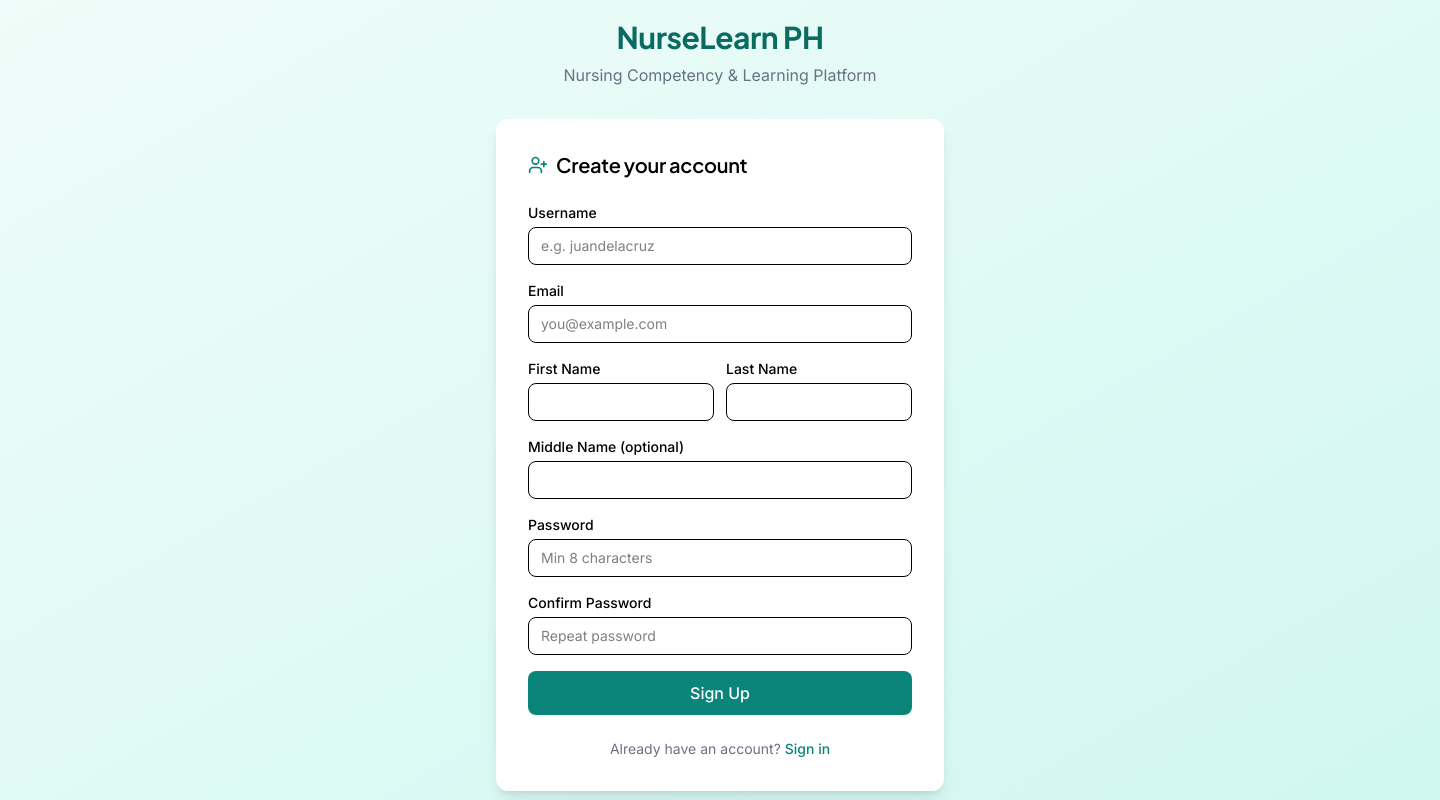
Scenario: SignupPage › shows the server error when registration fails
Expected: the heading "Create your account" is shown, top-left (556, 151), bottom-right (747, 179)
Type "dupe01" into the field with test id "signup-username" at (720, 246), box top-left (528, 227), bottom-right (912, 265)
Type "dupe01@example.com" into the field with test id "signup-email" at (720, 324), box top-left (528, 305), bottom-right (912, 343)
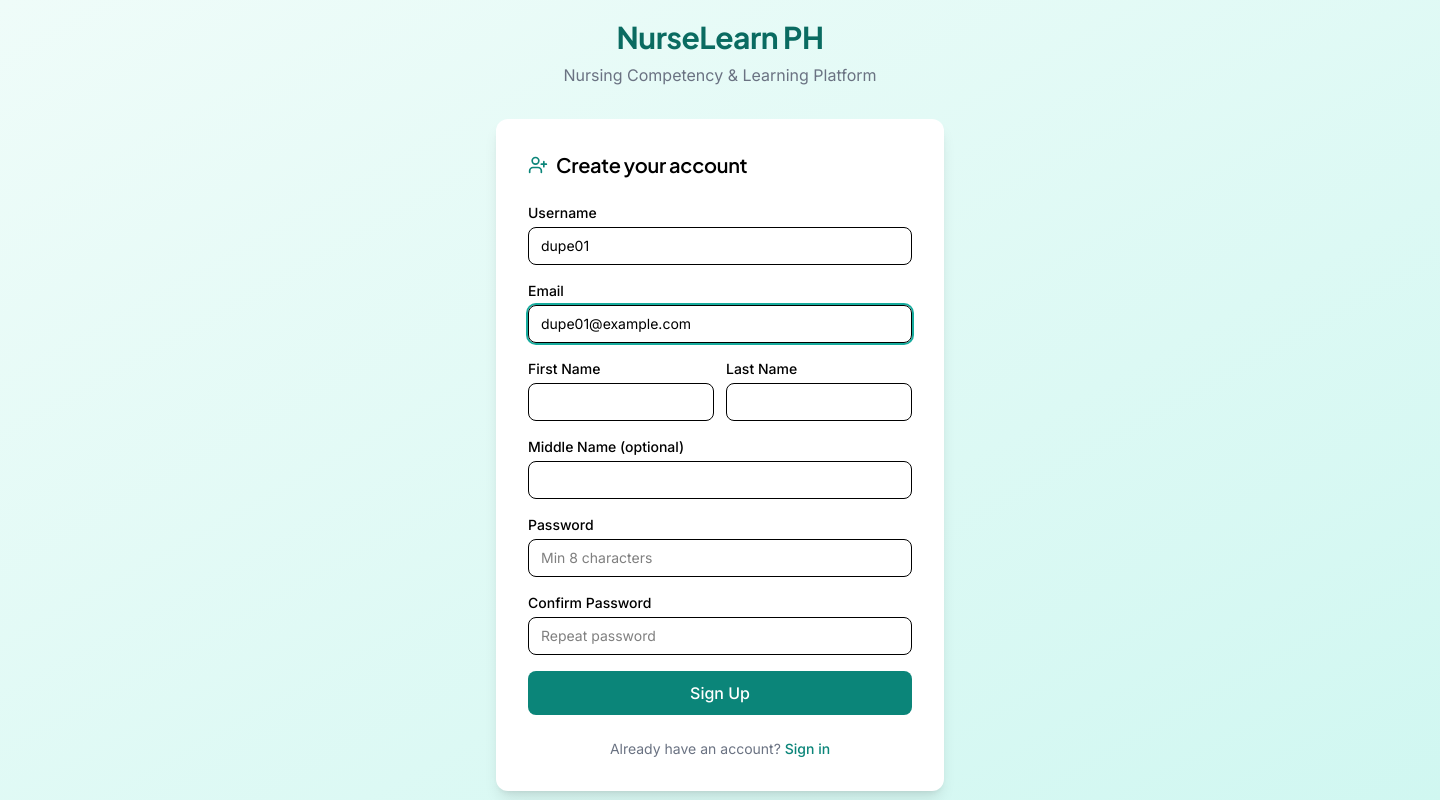
Type "Dupe" into the field with test id "signup-firstName" at (621, 402), box top-left (528, 383), bottom-right (714, 421)
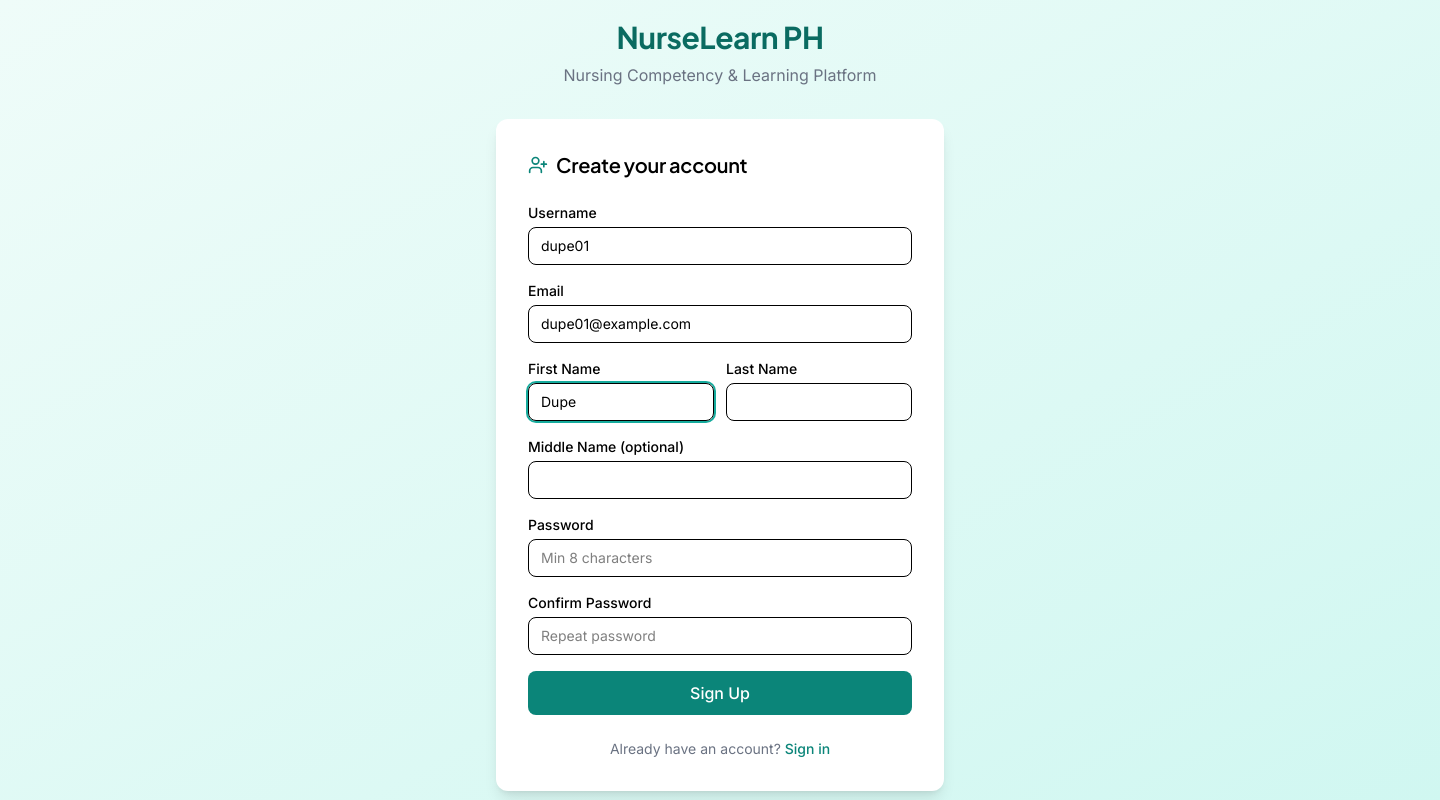
Type "User" into the field with test id "signup-lastName" at (819, 402), box top-left (726, 383), bottom-right (912, 421)
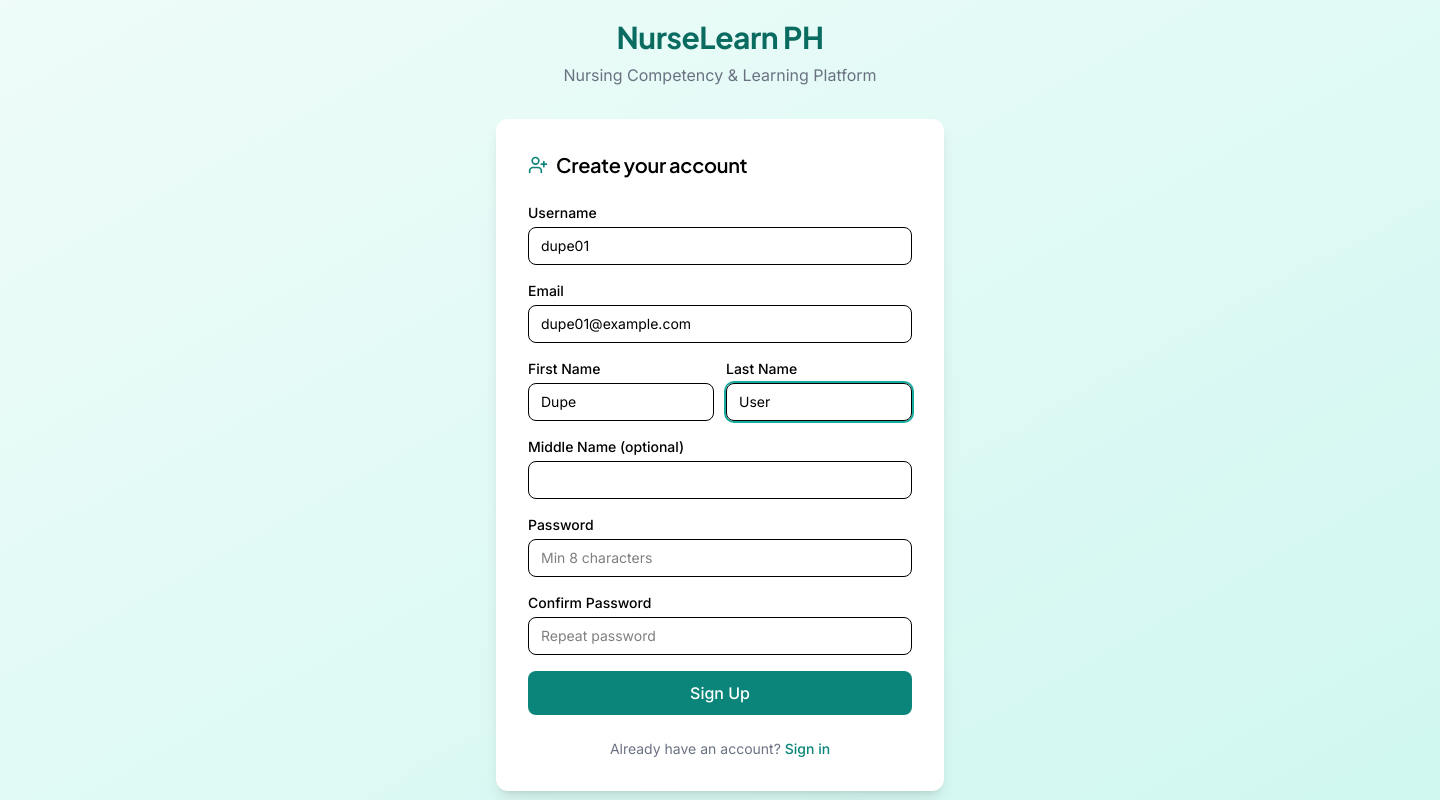
Type "secret123" into the password field with test id "signup-password" at (720, 558), box top-left (528, 539), bottom-right (912, 577)
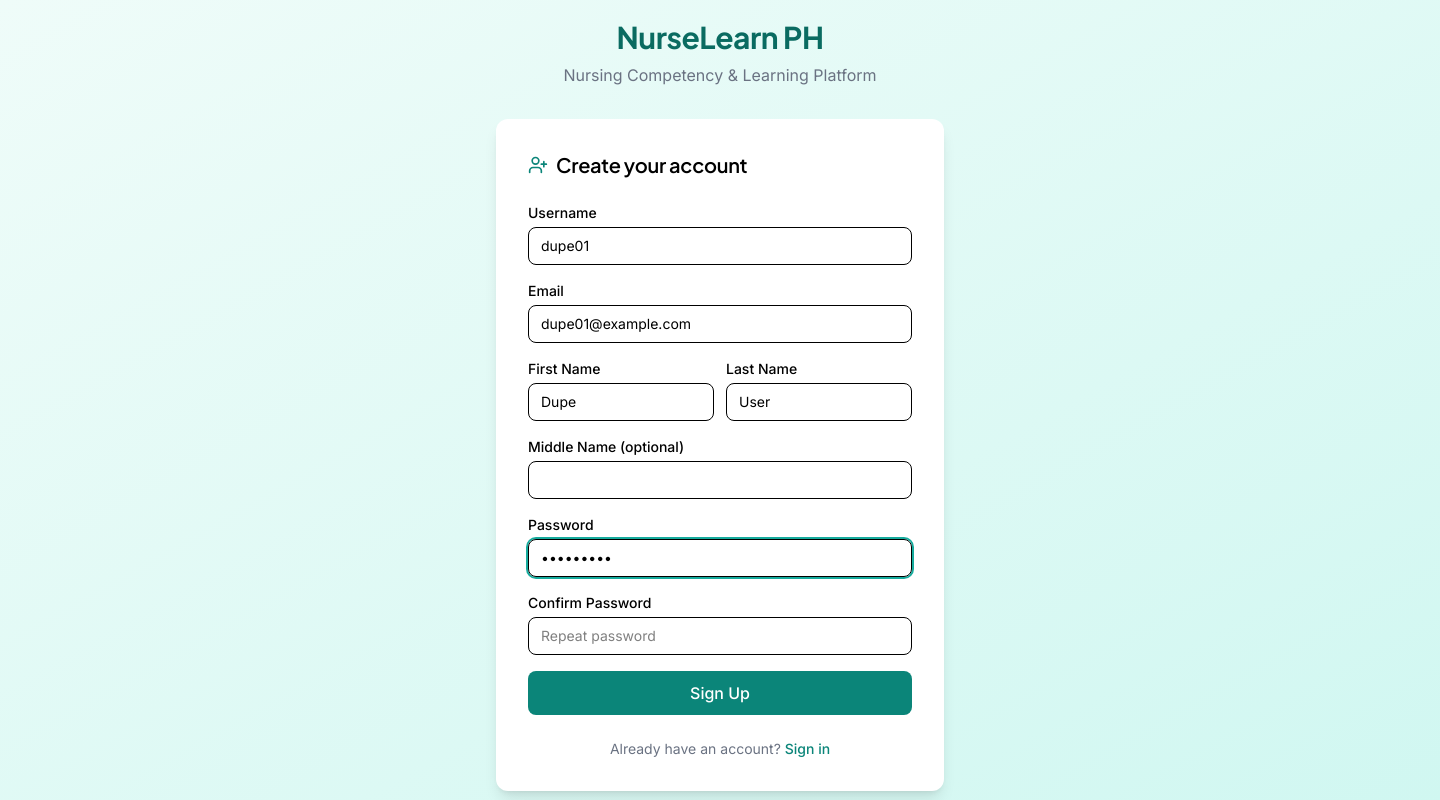
Type "secret123" into the password field with test id "signup-confirmPassword" at (720, 636), box top-left (528, 617), bottom-right (912, 655)
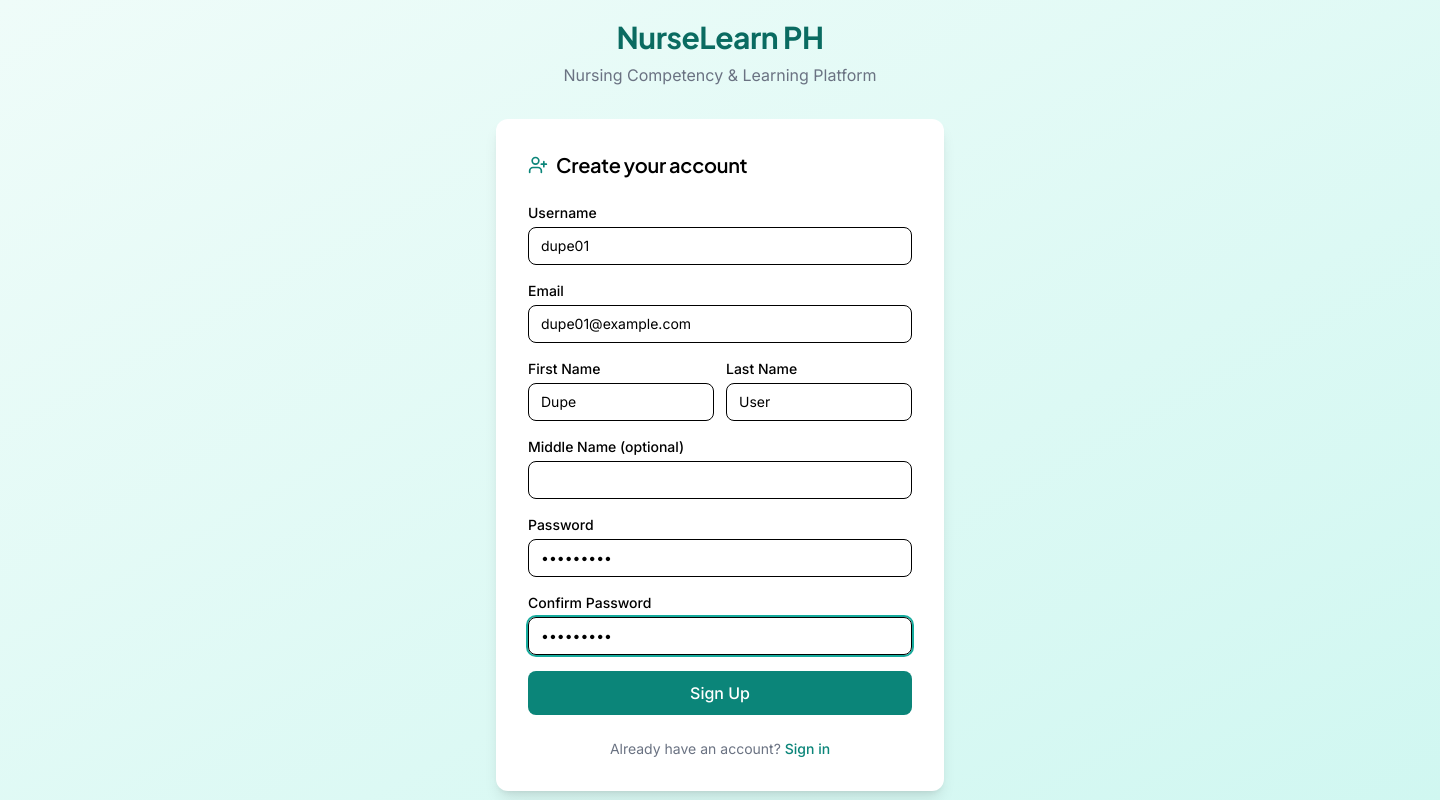
Click the button "Sign Up" at (720, 693), box top-left (528, 671), bottom-right (912, 715)
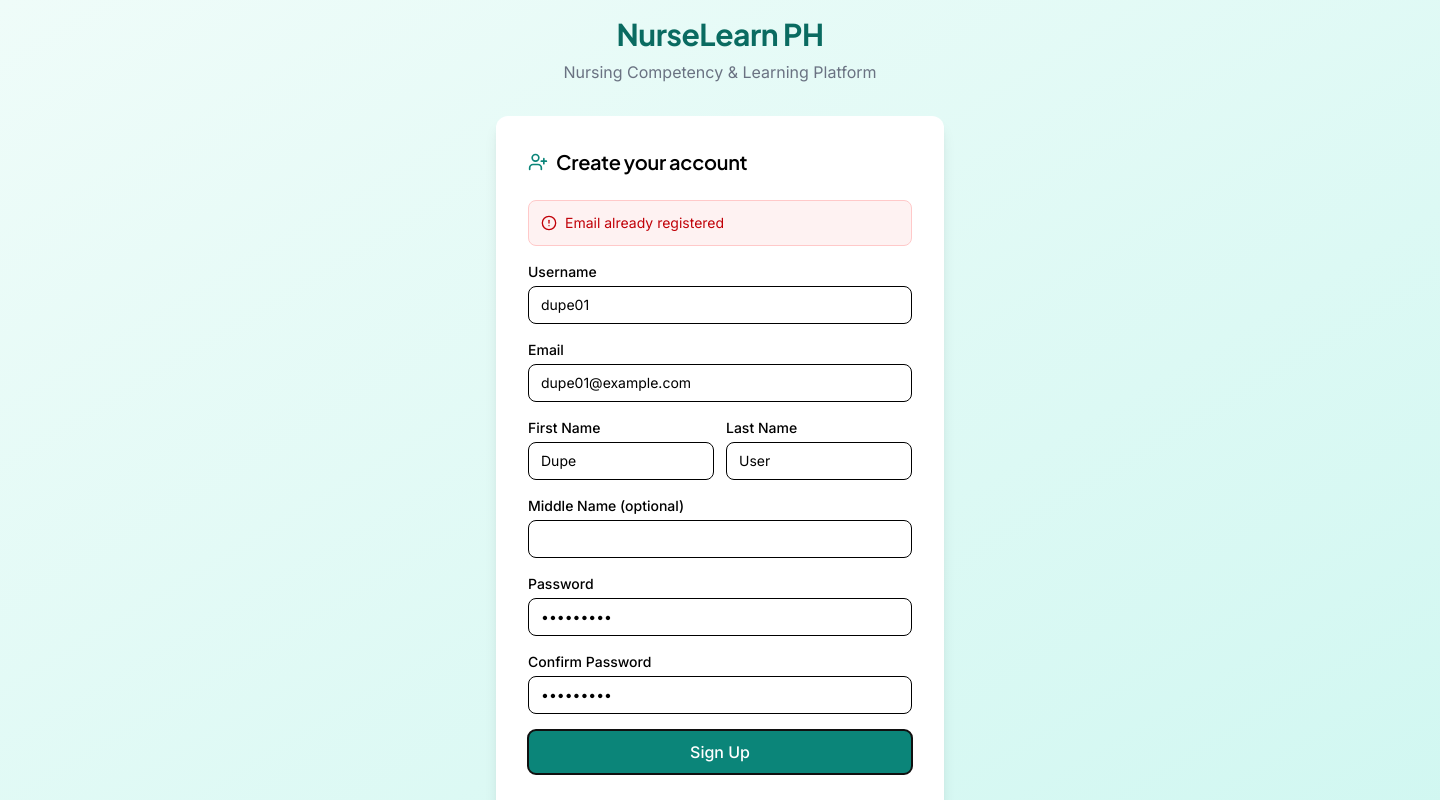
Result: the text "Email already registered" is shown at top-left (565, 213), bottom-right (724, 233)
